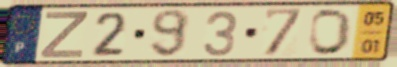2: (89, 11, 129, 58)
3: (202, 9, 240, 58)
7: (262, 7, 306, 59)
9: (149, 8, 193, 60)
O: (308, 7, 355, 58)
Z: (38, 11, 91, 60)
